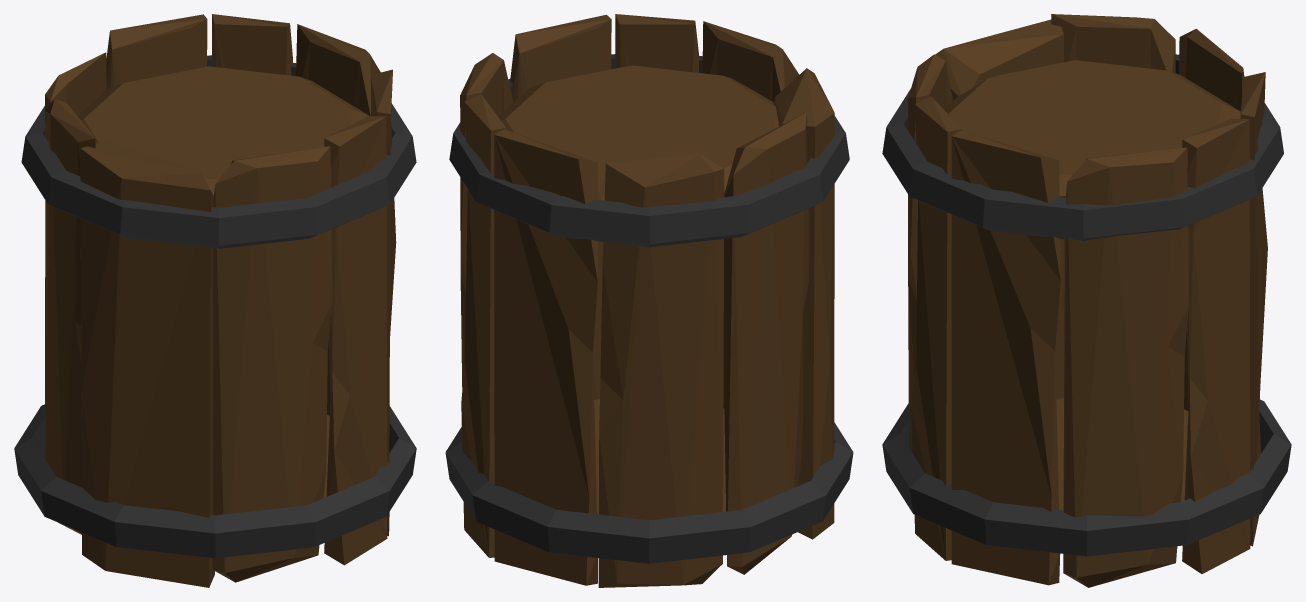
File: SM_barrel_01.fbx
3 views of the same model, side by side, from view 1: azimuth 30°, elevation 25°; view 2: azimuth 150°, elevation 25°; view 3: azimuth 270°, elevation 25° (orthographic).
Parts seen in each view (by area): view 1: Cylinder030; view 2: Cylinder030; view 3: Cylinder030.
Boxes of the visible parts, x1,y1,x2,y2 form: Cylinder030: (14,14,416,587); Cylinder030: (445,14,853,587); Cylinder030: (882,14,1291,587).
Size of the model in its own units: 35.31 by 41.21 by 35.31.
